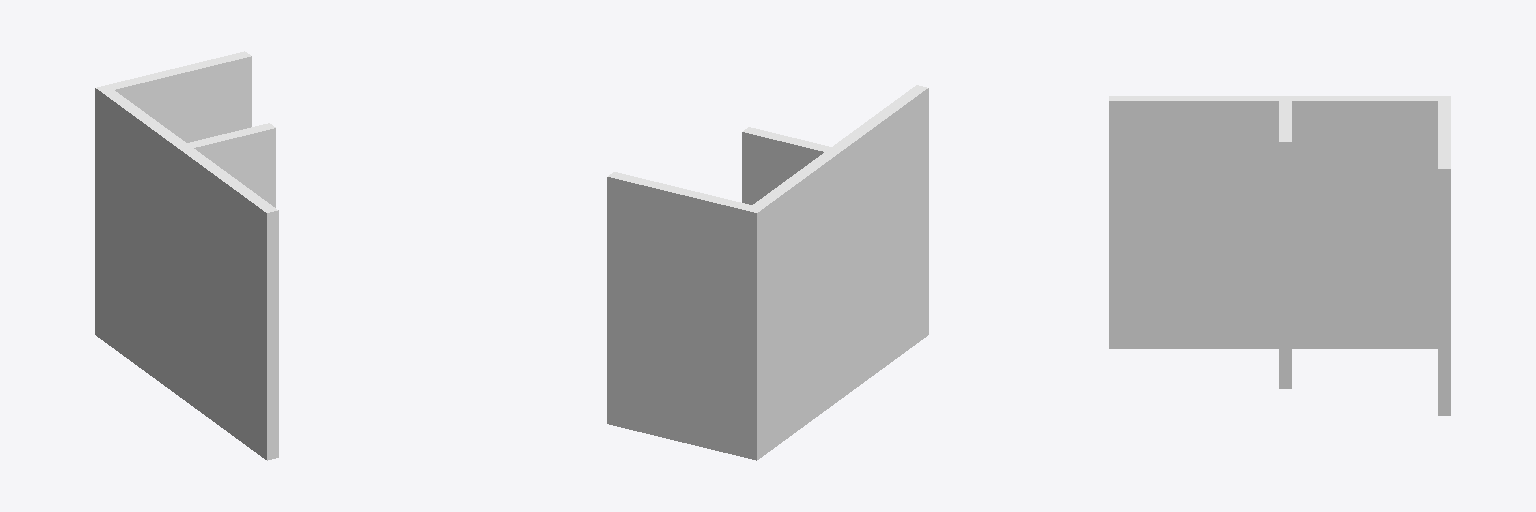
3 renders of one model, left to right at view 1: azimuth 30°, elevation 25°; view 2: azimuth 150°, elevation 25°; view 3: azimuth 270°, elevation 25°, orthographic.
Parts seen in each view (by area): view 1: wall_1_4, wall_2_10, wall_3_16, wall_1_3, wall_1_6, wall_1_5; view 2: wall_1_4, wall_2_9, wall_3_15, wall_1_6, wall_1_5; view 3: wall_1_3, wall_2_10, wall_3_15, wall_2_9, wall_3_16, wall_1_6, wall_1_5.
Part boxes in pixels (x1,y1,x2,y2): wall_1_4: (95, 88, 272, 460); wall_2_10: (115, 56, 251, 142); wall_3_16: (194, 128, 275, 207); wall_1_3: (273, 210, 278, 458); wall_1_6: (96, 88, 271, 212); wall_1_5: (106, 89, 277, 211); wall_1_4: (757, 88, 928, 459); wall_2_9: (607, 177, 756, 460); wall_3_15: (742, 132, 823, 204); wall_1_6: (755, 86, 927, 212); wall_1_5: (752, 85, 921, 208); wall_1_3: (1109, 101, 1437, 348); wall_2_10: (1438, 169, 1444, 415); wall_3_15: (1285, 142, 1291, 388); wall_2_9: (1445, 169, 1450, 415); wall_3_16: (1279, 142, 1284, 388); wall_1_6: (1109, 96, 1449, 98); wall_1_5: (1109, 99, 1441, 100).
Bounding box in the file's own units: 96.52 × 152 × 191.